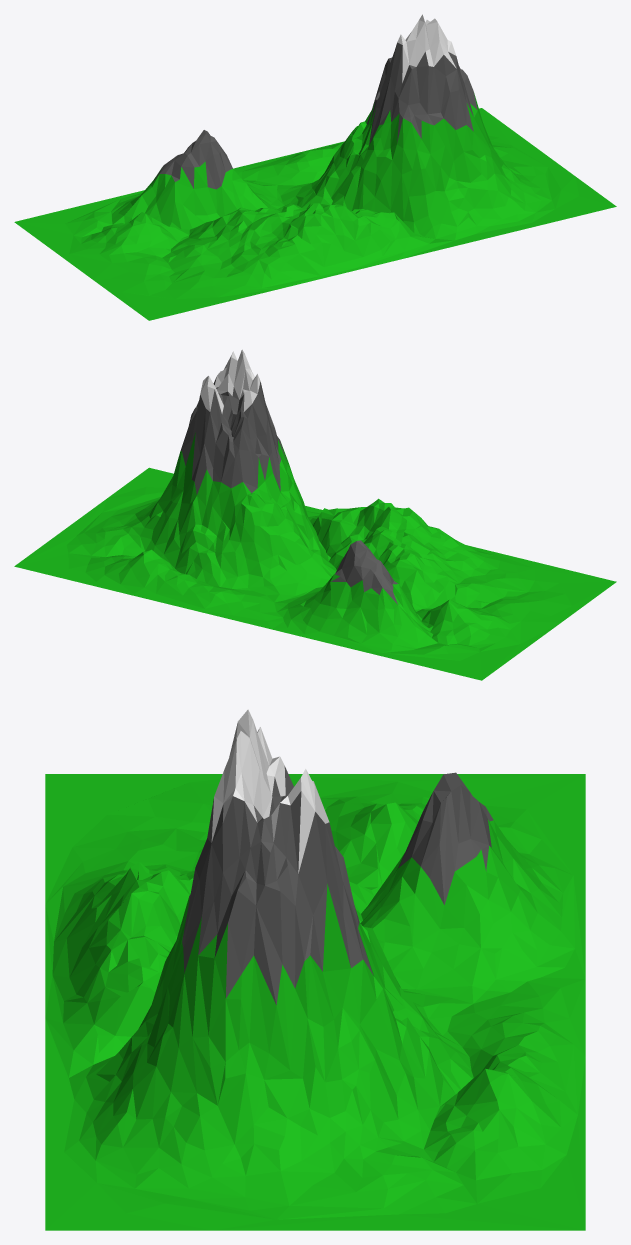
The model's file is Gory1.fbx.
3 views of the same model, one above another, from view 1: azimuth 30°, elevation 25°; view 2: azimuth 150°, elevation 25°; view 3: azimuth 270°, elevation 25° (orthographic). The views are drawn at different scales.
Visible parts, largest first — view 1: Landscape.003; view 2: Landscape.003; view 3: Landscape.003.
Part boxes in pixels (left/top/right/bottom): Landscape.003: left=14, top=14, right=616, bottom=320; Landscape.003: left=14, top=349, right=616, bottom=680; Landscape.003: left=45, top=709, right=585, bottom=1230.
Bounding box in the file's own units: 200 × 77.88 × 100.
